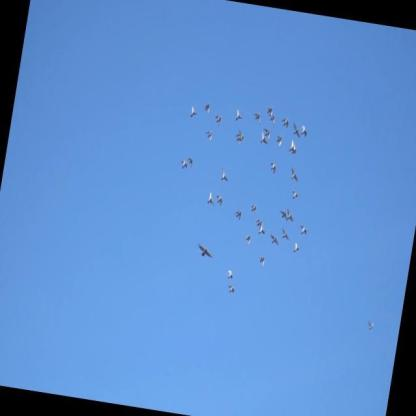bird: (196, 242, 215, 260), (291, 122, 304, 139), (279, 227, 292, 242), (257, 132, 270, 147), (219, 167, 231, 183), (285, 209, 297, 225), (289, 167, 301, 183), (365, 318, 377, 333), (269, 233, 281, 248), (262, 127, 273, 143), (278, 207, 289, 222), (252, 111, 263, 126), (178, 160, 190, 173), (189, 105, 199, 120), (235, 108, 245, 123), (207, 191, 217, 206), (256, 254, 266, 269), (275, 133, 284, 149), (237, 129, 246, 145), (266, 113, 277, 126), (214, 113, 224, 127), (215, 193, 225, 207), (292, 241, 301, 256), (269, 161, 278, 176), (300, 124, 309, 139), (288, 138, 297, 153), (298, 225, 309, 237), (233, 209, 243, 222), (258, 223, 267, 237), (227, 269, 236, 282), (205, 130, 214, 143), (203, 102, 211, 115), (291, 143, 299, 156), (228, 284, 237, 295), (291, 190, 300, 201), (282, 117, 291, 128), (250, 203, 258, 215), (244, 234, 252, 246), (266, 106, 274, 118), (255, 218, 264, 228), (187, 157, 195, 168), (234, 134, 242, 145)
